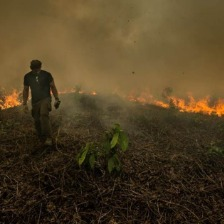incendio: (78, 83, 222, 119)
pessoas: (19, 57, 71, 149)
